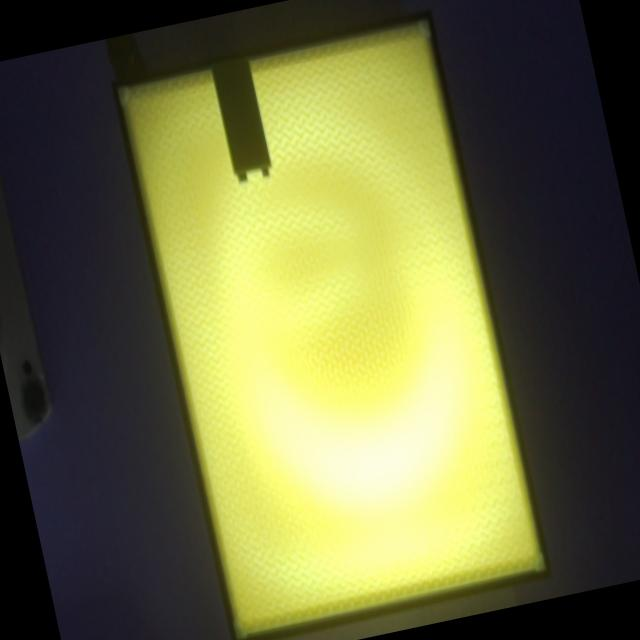bateria: (211, 57, 272, 182)
mesa: (109, 9, 552, 640)
